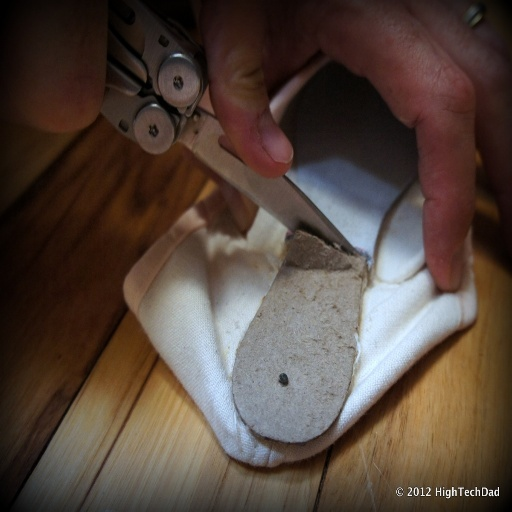hand: (213, 9, 489, 249), (0, 0, 113, 132)
